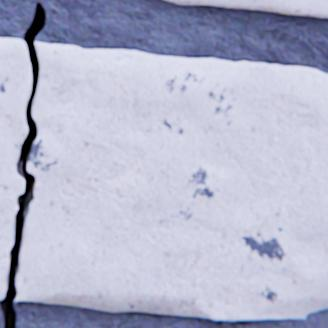brick: (164, 0, 327, 18)
broken_brick: (15, 42, 327, 319), (0, 38, 31, 298)
crack: (0, 2, 46, 327)
